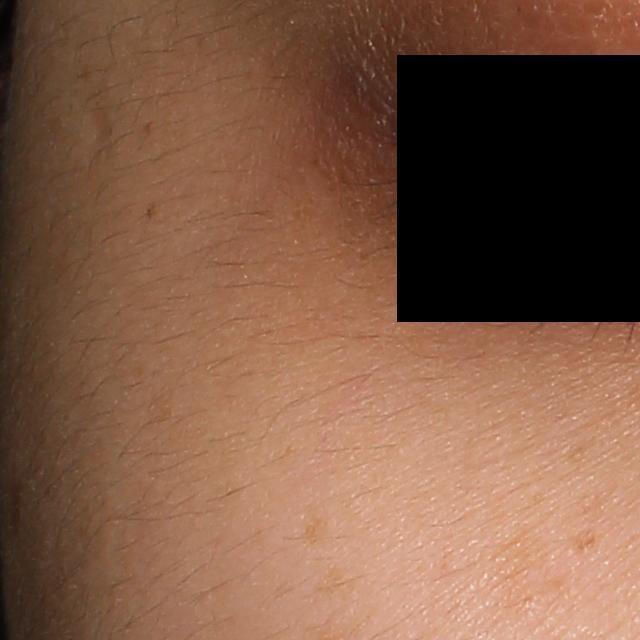melasma: (302, 513, 337, 555), (571, 525, 604, 556)
